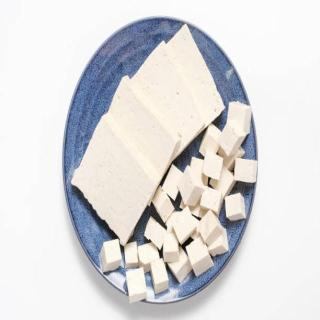Tahu: (69, 17, 264, 306)
